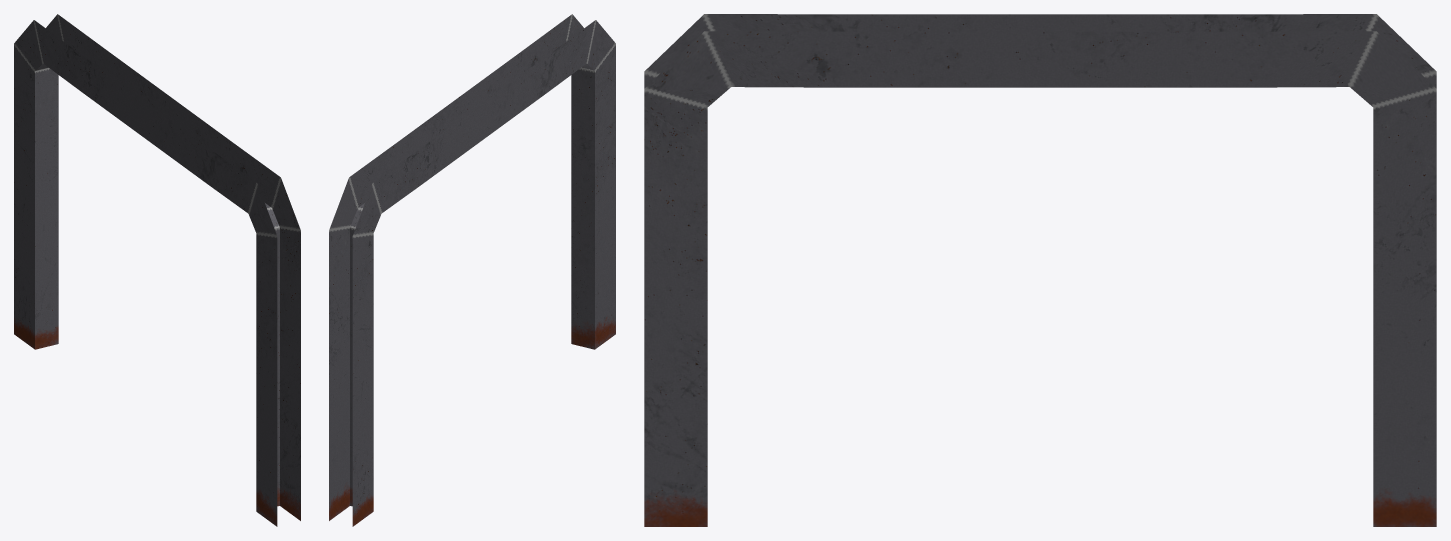
File: starship_frame.fbx
3 renders of one model, left to right at view 1: azimuth 30°, elevation 25°; view 2: azimuth 150°, elevation 25°; view 3: azimuth 270°, elevation 25°, orthographic. The views are drawn at different scales.
Visible parts, largest first — view 1: starship_frame; view 2: starship_frame; view 3: starship_frame.
Boxes of the visible parts, bbox=[...] form: starship_frame: bbox=[14, 14, 300, 526]; starship_frame: bbox=[329, 14, 615, 526]; starship_frame: bbox=[644, 14, 1436, 526].
Size of the model in its own units: 0.1266 by 1.69 by 2.45.
1 material, 1 textured.
